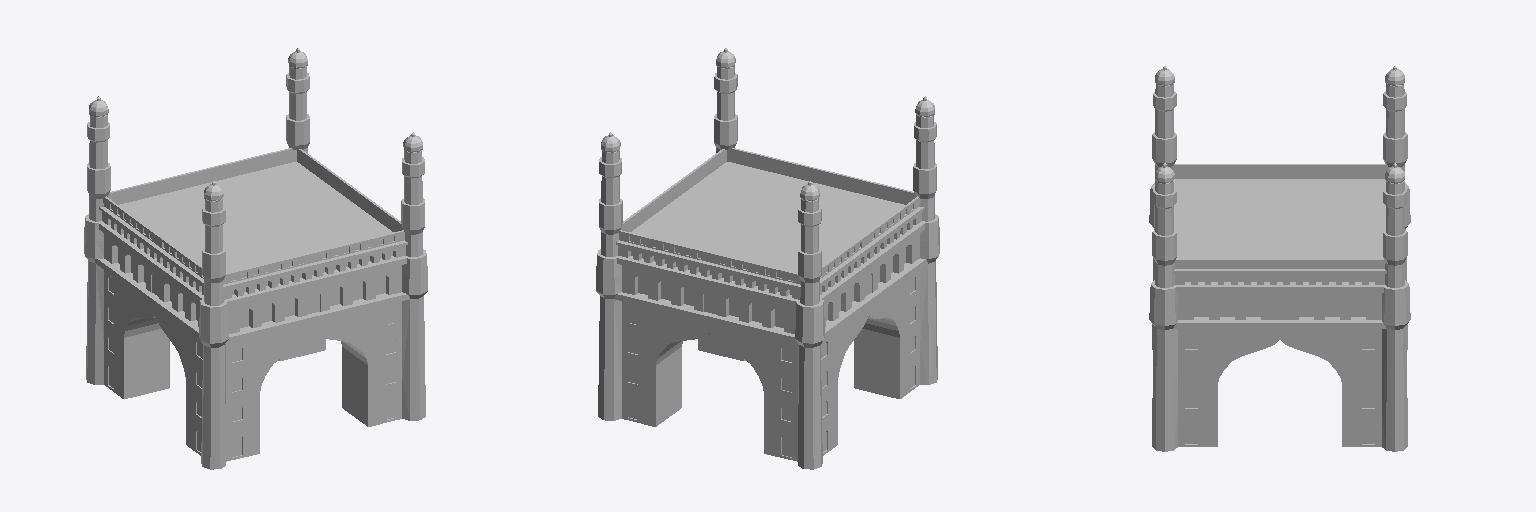
The model's file is CharMinar.obj.
The picture shows the model from 3 angles: view 1: azimuth 30°, elevation 25°; view 2: azimuth 150°, elevation 25°; view 3: azimuth 270°, elevation 25°; orthographic projection.
Parts seen in each view (by area): view 1: Charminar; view 2: Charminar; view 3: Charminar.
Part boxes in pixels (bbox=[...]): Charminar: bbox=[84, 48, 427, 469]; Charminar: bbox=[596, 48, 939, 469]; Charminar: bbox=[1149, 66, 1410, 451].
Size of the model in its own units: 2003 by 2397 by 2003.